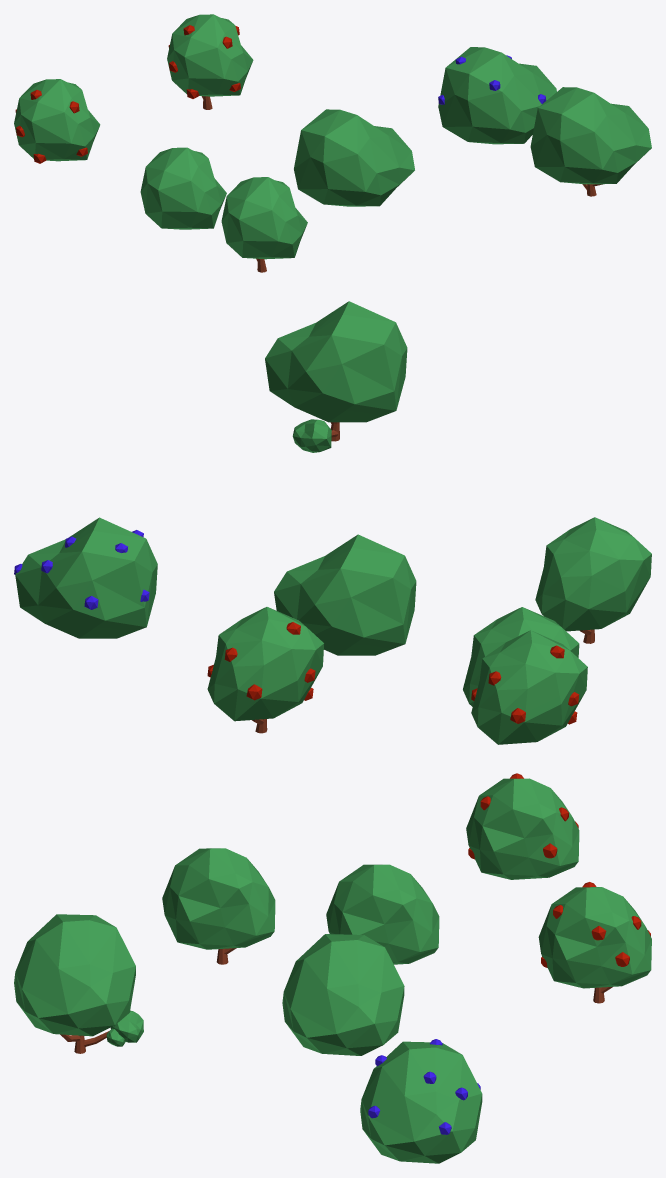
Rendered from KUSTS.fbx.
The picture shows the model from 3 angles, top to bottom: view 1: azimuth 30°, elevation 25°; view 2: azimuth 150°, elevation 25°; view 3: azimuth 270°, elevation 25°; orthographic projection. The views are drawn at different scales.
Parts seen in each view (by area): view 1: Cylinder.125, Icosphere.022, Icosphere.003, Cylinder.068, Cylinder.070, Icosphere.005, Icosphere.045; view 2: Cylinder.125, Icosphere.003, Icosphere.022, Cylinder.068, Icosphere.005, Cylinder.070, Icosphere.045; view 3: Cylinder.125, Icosphere.003, Icosphere.022, Cylinder.068, Cylinder.070, Icosphere.005, Icosphere.045.
Part boxes in pixels (x1=…): Cylinder.125: x1=530, y1=87, x2=651, y2=196; Icosphere.022: x1=294, y1=109, x2=414, y2=206; Icosphere.003: x1=438, y1=47, x2=556, y2=144; Cylinder.068: x1=167, y1=14, x2=253, y2=109; Cylinder.070: x1=221, y1=177, x2=307, y2=272; Icosphere.005: x1=14, y1=79, x2=100, y2=163; Icosphere.045: x1=140, y1=147, x2=226, y2=229; Cylinder.125: x1=265, y1=301, x2=407, y2=452; Icosphere.003: x1=14, y1=517, x2=157, y2=638; Icosphere.022: x1=274, y1=534, x2=416, y2=655; Cylinder.068: x1=207, y1=607, x2=324, y2=733; Icosphere.005: x1=471, y1=630, x2=587, y2=744; Cylinder.070: x1=535, y1=517, x2=651, y2=643; Icosphere.045: x1=463, y1=607, x2=579, y2=706; Cylinder.125: x1=14, y1=914, x2=143, y2=1053; Icosphere.003: x1=360, y1=1039, x2=482, y2=1163; Icosphere.022: x1=282, y1=934, x2=404, y2=1055; Cylinder.068: x1=538, y1=882, x2=651, y2=1003; Cylinder.070: x1=162, y1=848, x2=275, y2=964; Icosphere.005: x1=466, y1=773, x2=579, y2=879; Icosphere.045: x1=326, y1=864, x2=439, y2=964.
Bounding box in the file's own units: 1109 × 382 × 1161.
